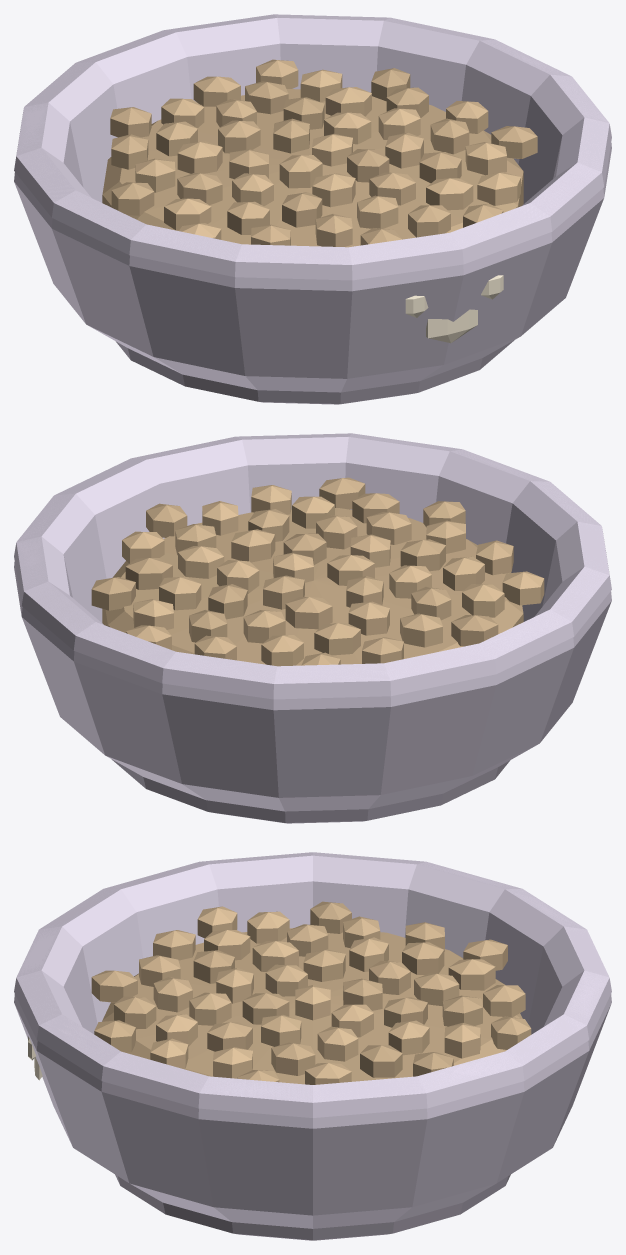
File: crafted-cat-food-2-2.glb
The picture shows the model from 3 angles, top to bottom: view 1: azimuth 30°, elevation 25°; view 2: azimuth 150°, elevation 25°; view 3: azimuth 270°, elevation 25°; orthographic projection.
Parts seen in each view (by area): view 1: ceramic-bowl, glazed-rim, ration-volume, foot-ring, ration-granule-24, ration-granule-12, ration-granule-37, ration-granule-19, ration-granule-38, ration-granule-1, ration-granule-14, ration-granule-30 (+37 smaller); view 2: ceramic-bowl, glazed-rim, ration-volume, foot-ring, ration-granule-7, ration-granule-20, ration-granule-8, ration-granule-39, ration-granule-25, ration-granule-13, ration-granule-43, ration-granule-30 (+37 smaller); view 3: ceramic-bowl, glazed-rim, ration-volume, foot-ring, ration-granule-40, ration-granule-26, ration-granule-13, ration-granule-28, ration-granule-21, ration-granule-11, ration-granule-36, ration-granule-20 (+37 smaller).
Boxes of the visible parts, x1,y1,x2,y2 form: ceramic-bowl: (14, 14, 611, 392); glazed-rim: (14, 14, 611, 280); ration-volume: (102, 89, 523, 247); foot-ring: (116, 340, 514, 404); ration-granule-24: (426, 178, 473, 210); ration-granule-12: (177, 141, 222, 173); ration-granule-37: (477, 172, 520, 205); ration-granule-19: (357, 195, 398, 228); ration-granule-38: (111, 182, 154, 215); ration-granule-1: (279, 155, 322, 188); ration-granule-14: (282, 192, 322, 227); ration-granule-30: (164, 198, 211, 230); ceramic-bowl: (14, 433, 611, 811); glazed-rim: (14, 433, 611, 699); ration-volume: (102, 508, 523, 665); foot-ring: (111, 759, 509, 823); ration-granule-7: (285, 597, 332, 629); ration-granule-20: (314, 623, 360, 655); ration-granule-8: (231, 529, 275, 562); ration-granule-39: (91, 577, 135, 610); ration-granule-25: (400, 613, 442, 647); ration-granule-13: (178, 546, 224, 578); ration-granule-43: (502, 571, 544, 605); ration-granule-30: (462, 584, 504, 617); ceramic-bowl: (14, 852, 611, 1228); glazed-rim: (14, 852, 611, 1117); ration-volume: (102, 928, 522, 1084); foot-ring: (115, 1174, 510, 1240); ration-granule-40: (91, 970, 137, 1002); ration-granule-26: (360, 1045, 402, 1077); ration-granule-13: (317, 1026, 358, 1061); ration-granule-28: (448, 959, 495, 990); ration-granule-21: (271, 1042, 315, 1075); ration-granule-11: (189, 992, 231, 1025); ration-granule-36: (483, 985, 525, 1017); ration-granule-20: (402, 942, 444, 974).
Bounding box in the file's own units: 0.76 × 0.265 × 0.76.
